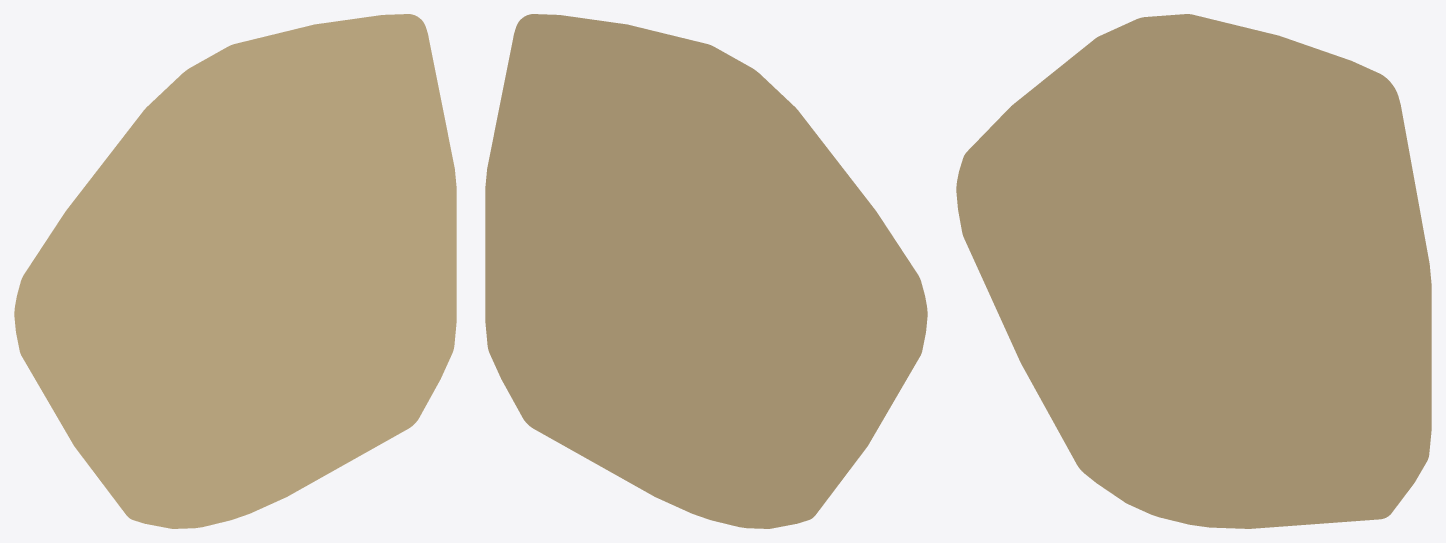
The model's file is ghostscript-tiger-card.gltf.
3 renders of one model, left to right at view 1: azimuth 30°, elevation 25°; view 2: azimuth 150°, elevation 25°; view 3: azimuth 330°, elevation 25°, orthographic. The views are drawn at different scales.
Parts seen in each view (by area): view 1: Ghostscript tiger A4 silhouette cut-card; view 2: Ghostscript tiger A4 silhouette cut-card; view 3: Ghostscript tiger A4 silhouette cut-card.
Part boxes in pixels (box(x1,y1,x2,y2)): Ghostscript tiger A4 silhouette cut-card: box(14, 14, 456, 528); Ghostscript tiger A4 silhouette cut-card: box(485, 14, 927, 528); Ghostscript tiger A4 silhouette cut-card: box(956, 14, 1431, 528).
Bounding box in the file's own units: 0.21 × 0.2157 × 0.
